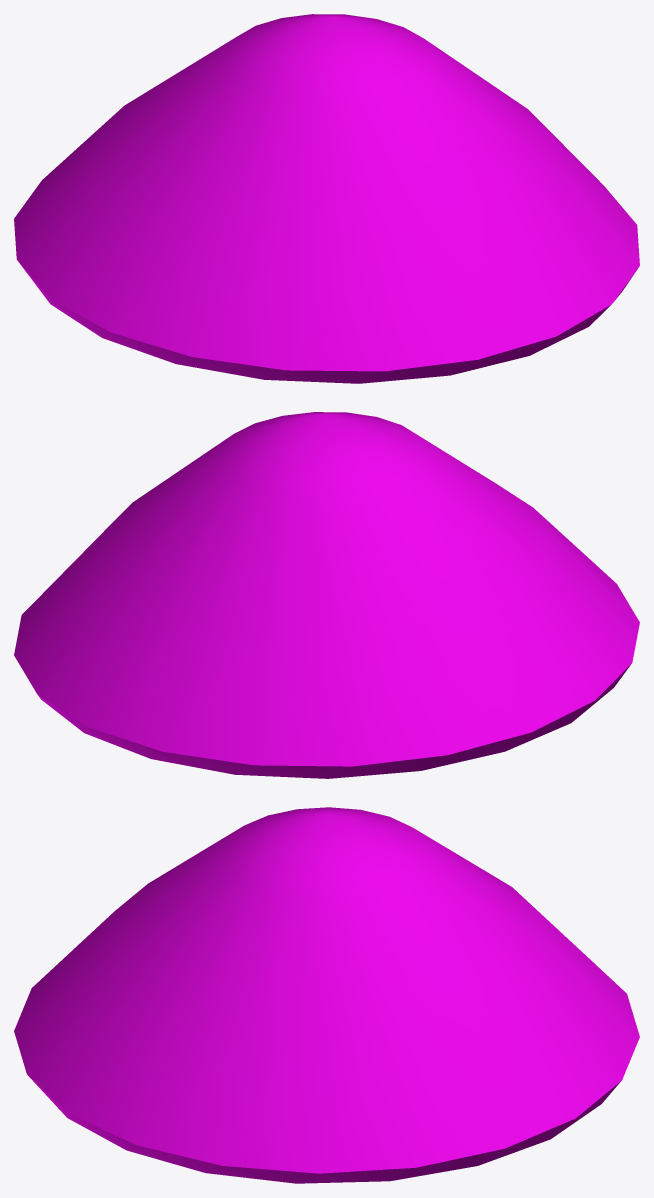
The model's file is propeller_cover6.fbx.
3 views of the same model, one above another, from view 1: azimuth 30°, elevation 25°; view 2: azimuth 150°, elevation 25°; view 3: azimuth 270°, elevation 25° (orthographic).
Visible parts, largest first — view 1: polySurface23; view 2: polySurface23; view 3: polySurface23.
Boxes of the visible parts, x1,y1,x2,y2 form: polySurface23: (14,14,639,383); polySurface23: (14,412,639,778); polySurface23: (14,807,639,1183).
Bounding box in the file's own units: 0.6036 × 0.2612 × 0.6038.
